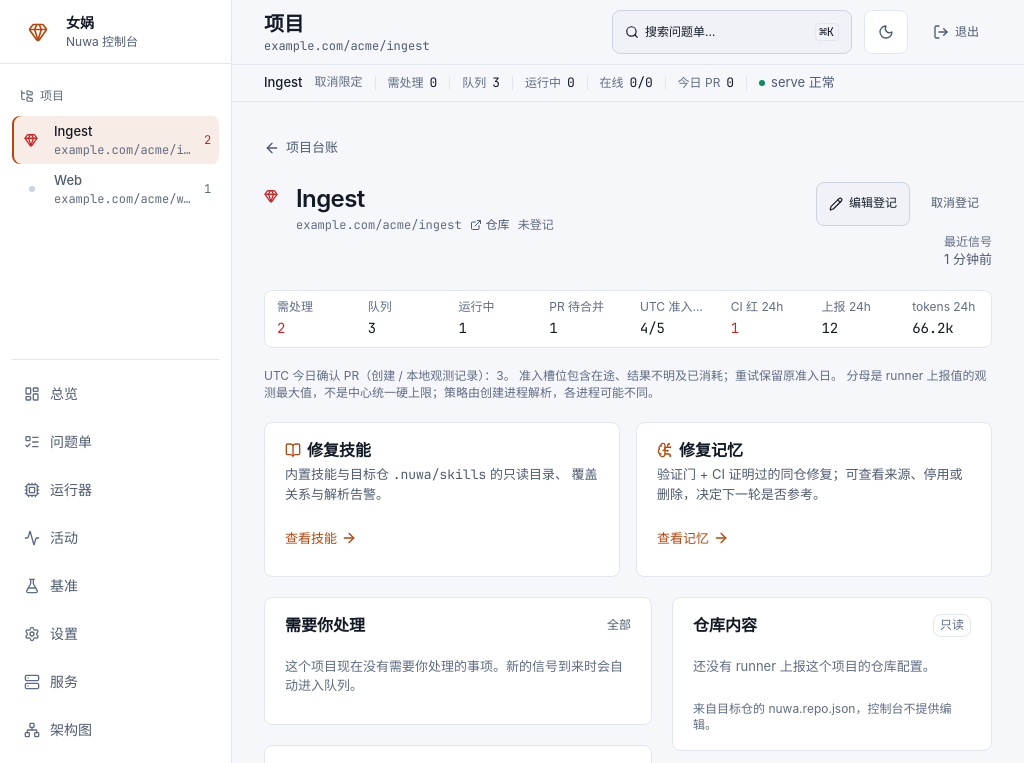
Test: 项目登记编辑 › unregisters only after confirmation and leaves the repo alone
What coordinates should you click on to do the following:
click the button "取消登记"
I would click on:
 (955, 204)
Its box is [918, 182, 992, 226].
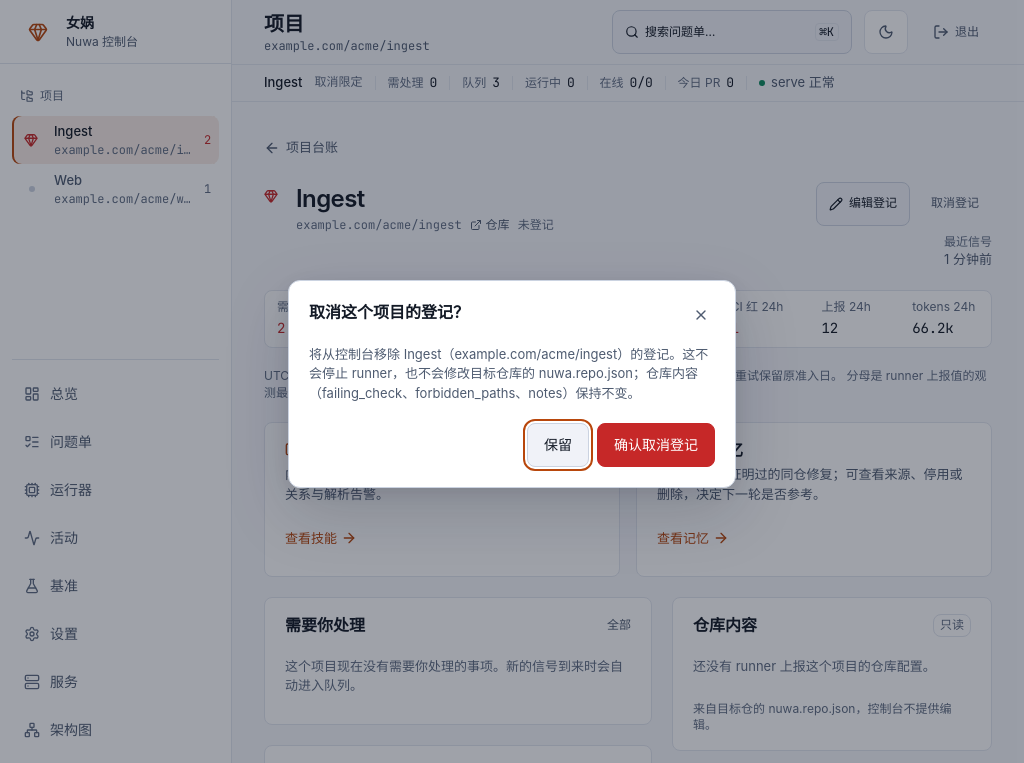
expect the text "nuwa.repo.json" is shown: met, box [309, 346, 708, 401]
What coordinates should you click on to do the following:
click the button "保留"
I would click on:
 (558, 445)
Its box is [527, 423, 589, 467].
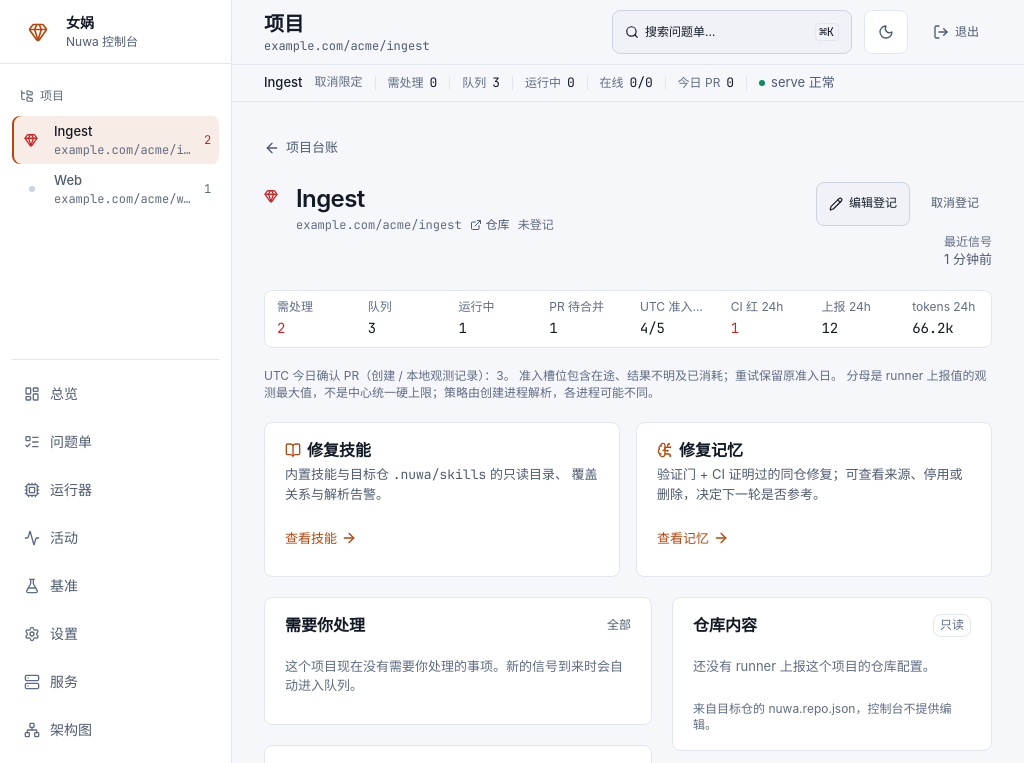
expect the heading "取消这个项目的登记？" is gone: met
What coordinates should you click on to do the following:
click the button "取消登记"
I would click on:
 (955, 204)
Its box is [918, 182, 992, 226].
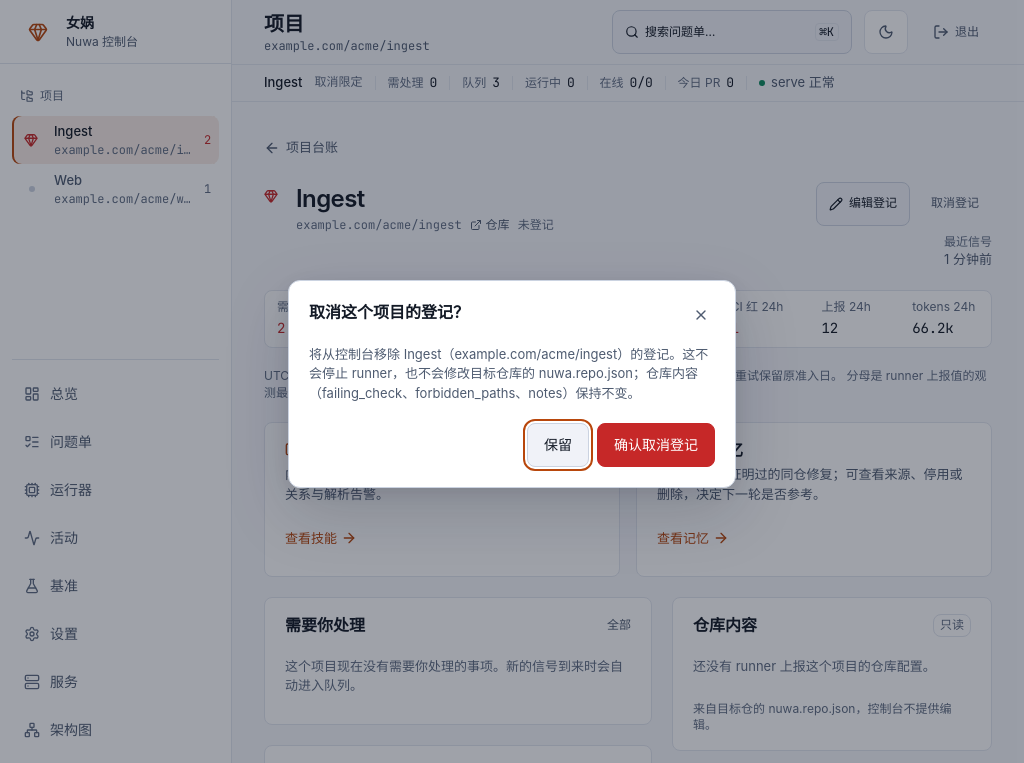
What coordinates should you click on to do the following:
click the button "确认取消登记"
I would click on:
 (656, 445)
Its box is [597, 423, 715, 467].
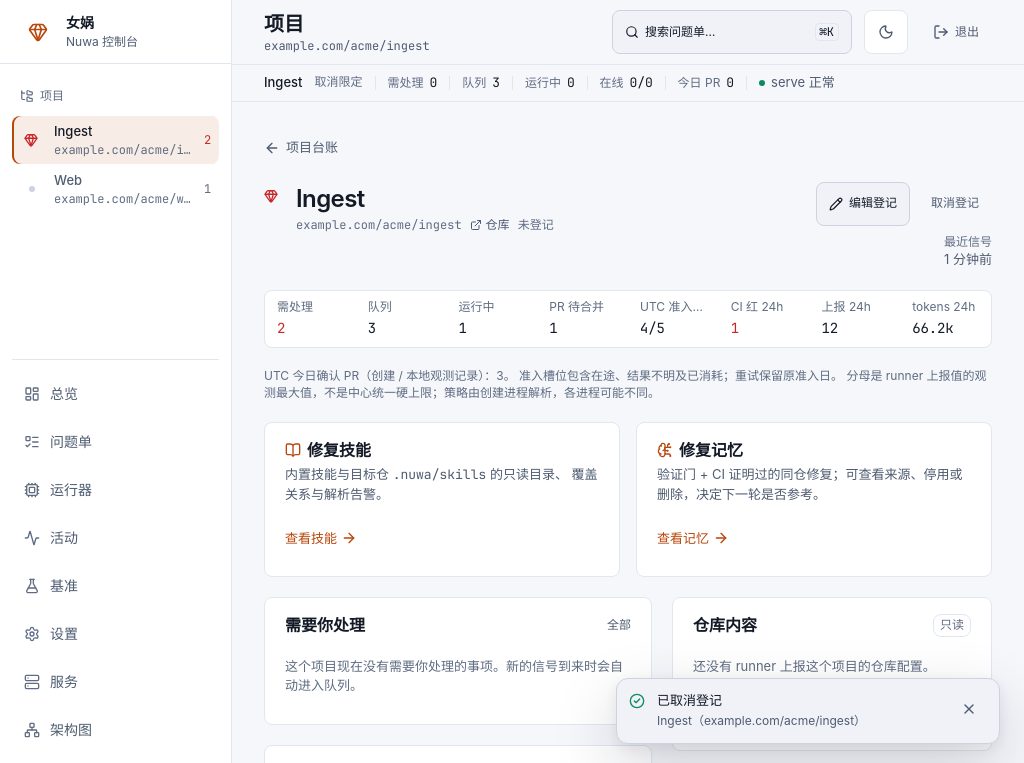
expect the text "已取消登记" is shown: met, box [657, 692, 722, 708]
